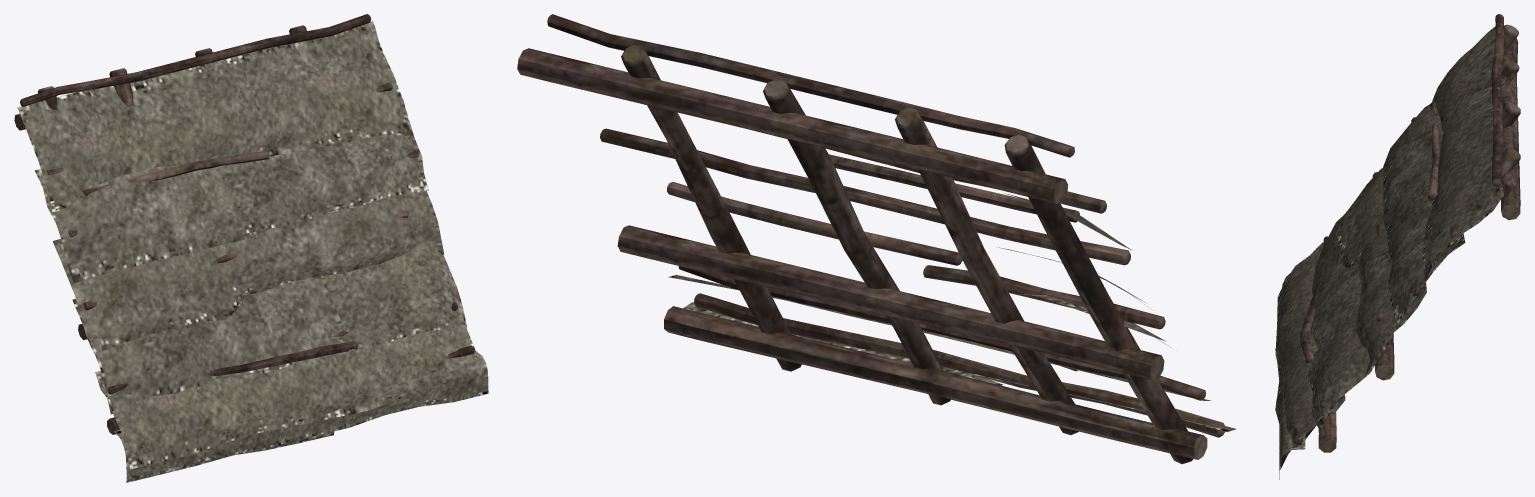
The model's file is SM_RoofPart_03_31bc46.glb.
3 views of the same model, side by side, from view 1: azimuth 30°, elevation 25°; view 2: azimuth 150°, elevation 25°; view 3: azimuth 270°, elevation 25° (orthographic). The views are drawn at different scales.
Size of the model in its own units: 8.47 by 6.89 by 5.03.
3 materials, 3 textured.
